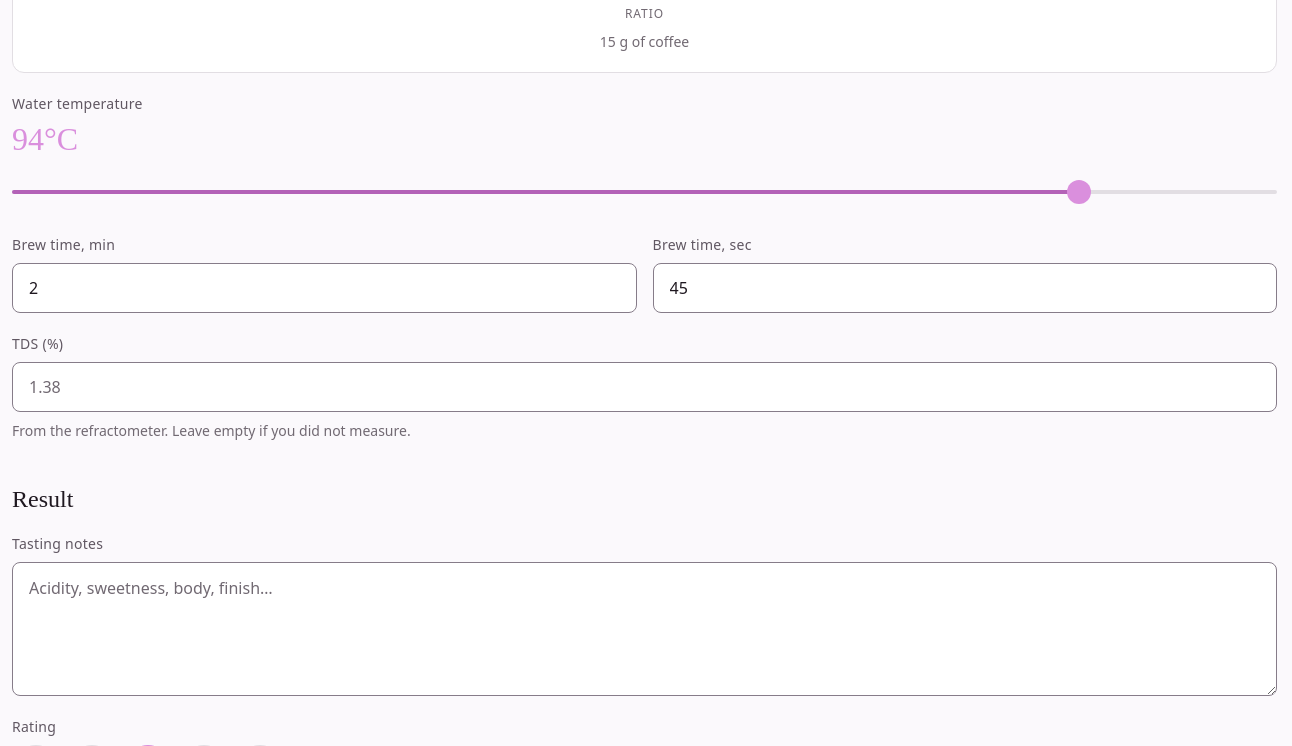
Test: BrewForm › shows extraction as soon as a TDS reading is entered
(page scrolled)
Expected: the text "extraction" is not shown
Type "1.35" into the number field labelled "TDS (%)" at (644, 387), box [12,362,1277,412]
(page scrolled)
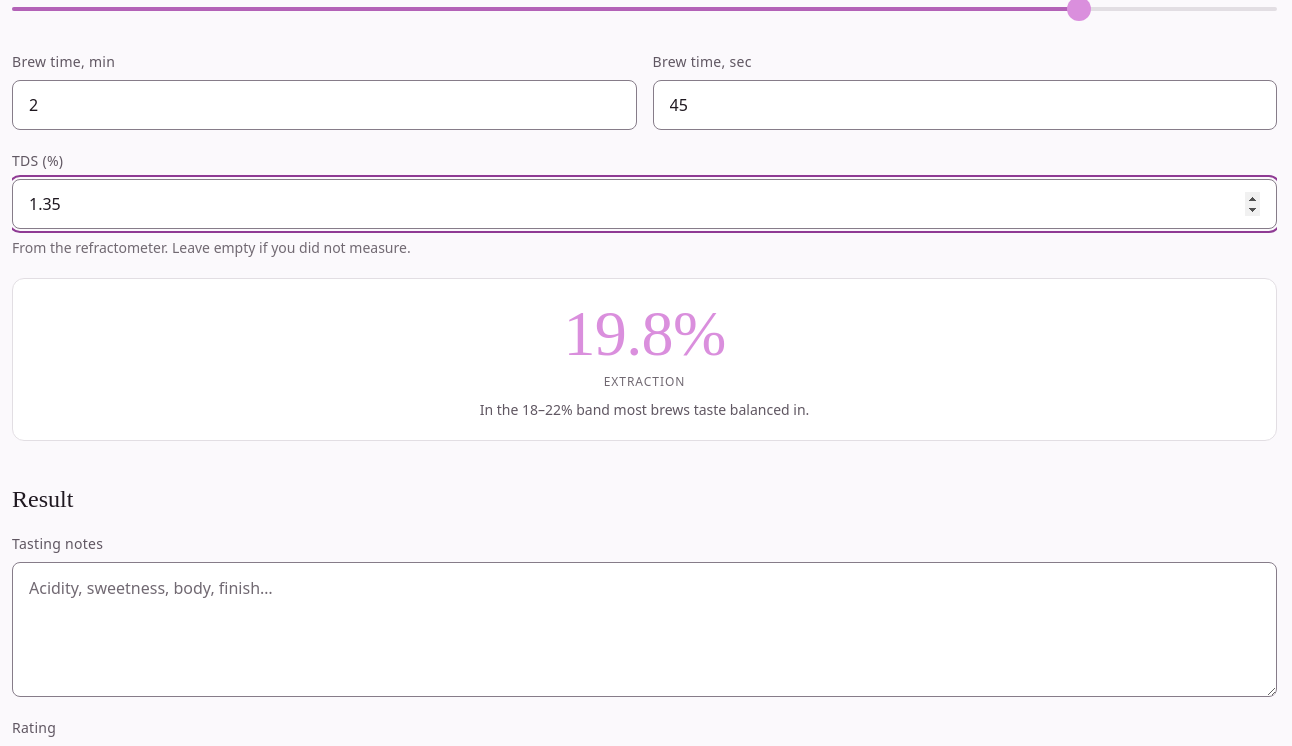
Expected: the text "19.8%" is shown, [563,298,726,369]
Expected: the text "In the 18–22% band most brews taste balanced in." is shown, [480,400,809,419]
